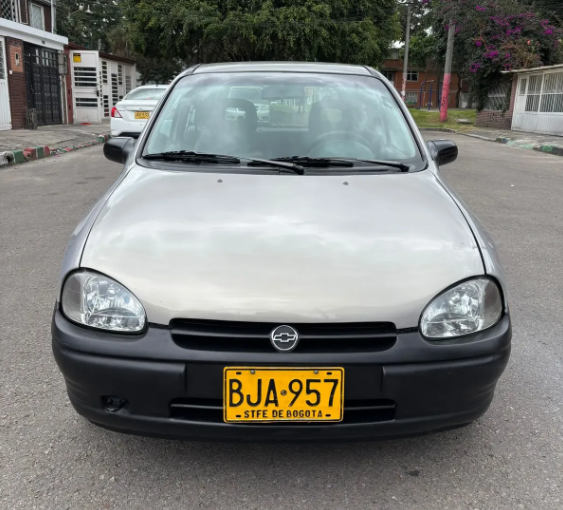placa: (223, 365, 345, 423)
